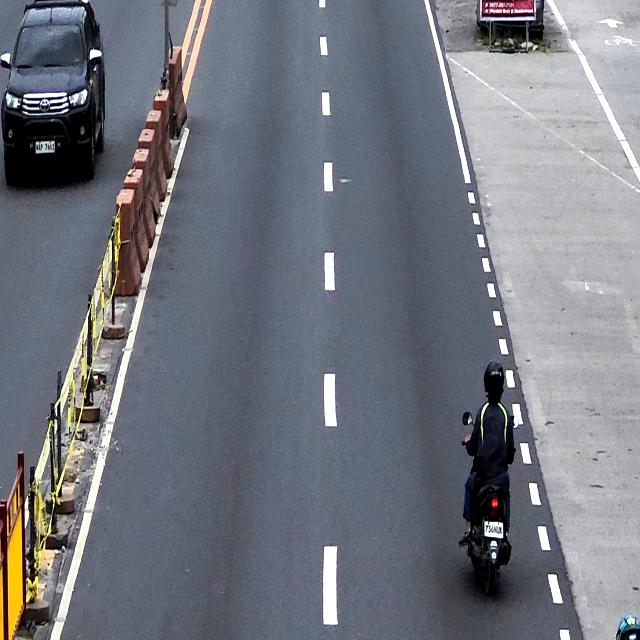License-Plate: (484, 520, 503, 538)
Motorcycle: (462, 410, 519, 596)
